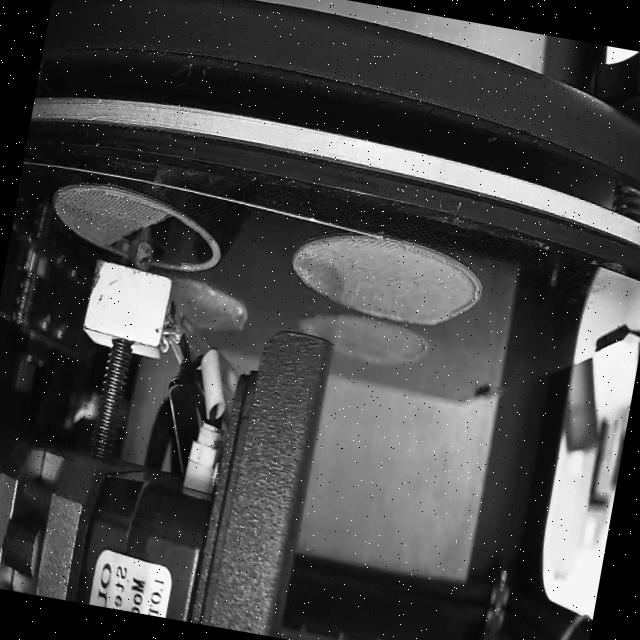over_extrusion: (447, 264, 486, 326)
